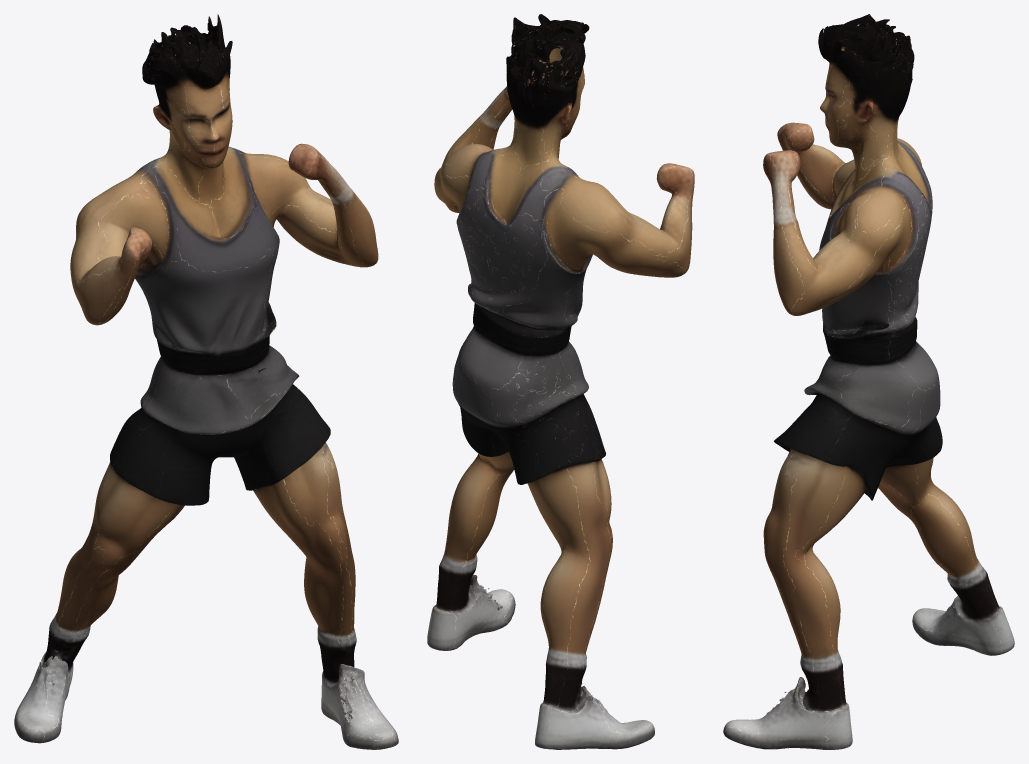
Rendered from trellis2-concept2-high.despeckle.glb.
3 views of the same model, side by side, from view 1: azimuth 30°, elevation 25°; view 2: azimuth 150°, elevation 25°; view 3: azimuth 270°, elevation 25° (orthographic). The views are drawn at different scales.
Visible parts, largest first — view 1: world; view 2: world; view 3: world.
Boxes of the visible parts, x1=… form: world: x1=14, y1=14, x2=398, y2=749; world: x1=427, y1=14, x2=694, y2=749; world: x1=723, y1=14, x2=1014, y2=749.
Bounding box in the file's own units: 0.4224 × 0.999 × 0.3933.
Materials: 1 (1 with a texture image).
